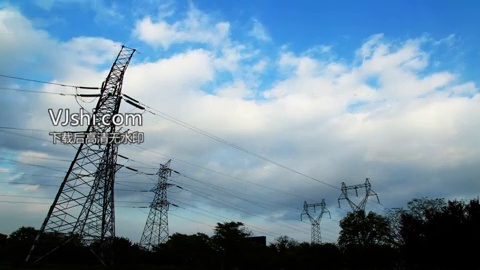tower_body: (137, 155, 178, 247)
tower_foot: (138, 225, 170, 245)
tower_head: (336, 177, 381, 213), (300, 198, 330, 225), (153, 158, 177, 178)
